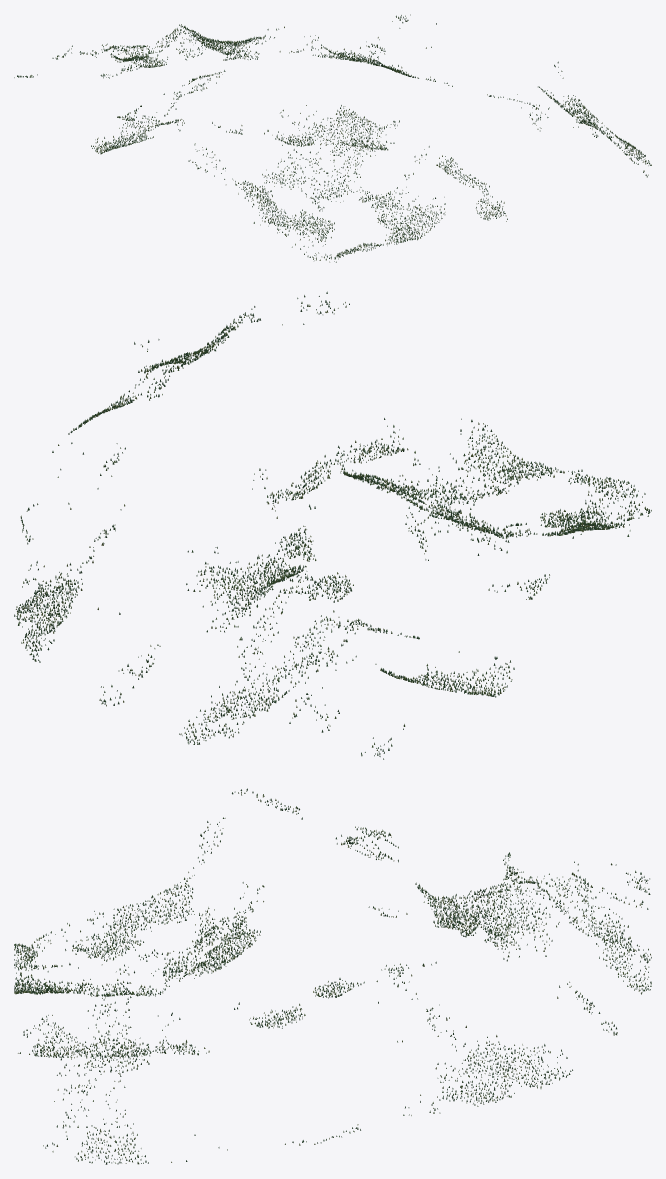
3 views of the same model, one above another, from view 1: azimuth 30°, elevation 25°; view 2: azimuth 150°, elevation 25°; view 3: azimuth 270°, elevation 25° (orthographic). The views are drawn at different scales.
Parts seen in each view (by area): view 1: Forest 1.6, Forest 1.7, Forest 1.3, Forest 1.4, Forest 1.1, Forest 1.14, Forest 1.5, Forest 1.0, Forest 1.11, Forest 1.2; view 2: Forest 1.4, Forest 1.7, Forest 1.6, Forest 1.1, Forest 1.0, Forest 1.3, Forest 1.14, Forest 1.5, Forest 1.11, Forest 1.8, Forest 1.9, Forest 1.2; view 3: Forest 1.4, Forest 1.6, Forest 1.14, Forest 1.3, Forest 1.7, Forest 1.1, Forest 1.0, Forest 1.5, Forest 1.9, Forest 1.8, Forest 1.2, Forest 1.11.
Part boxes in pixels (x1=…): Forest 1.6: x1=280, y1=105, x2=399, y2=196; Forest 1.7: x1=315, y1=146, x2=445, y2=248; Forest 1.3: x1=244, y1=192, x2=371, y2=262; Forest 1.4: x1=125, y1=24, x2=266, y2=67; Forest 1.1: x1=91, y1=58, x2=225, y2=154; Forest 1.14: x1=548, y1=64, x2=651, y2=177; Forest 1.5: x1=186, y1=28, x2=318, y2=143; Forest 1.0: x1=14, y1=41, x2=184, y2=78; Forest 1.11: x1=443, y1=86, x2=562, y2=221; Forest 1.2: x1=155, y1=113, x2=306, y2=198; Forest 1.4: x1=99, y1=568, x2=314, y2=744; Forest 1.7: x1=384, y1=418, x2=587, y2=532; Forest 1.6: x1=280, y1=445, x2=489, y2=589; Forest 1.1: x1=321, y1=503, x2=549, y2=697; Forest 1.0: x1=228, y1=594, x2=419, y2=759; Forest 1.3: x1=502, y1=476, x2=651, y2=536; Forest 1.14: x1=58, y1=312, x2=260, y2=445; Forest 1.5: x1=187, y1=468, x2=358, y2=646; Forest 1.11: x1=208, y1=291, x2=408, y2=494; Forest 1.8: x1=14, y1=588, x2=120, y2=662; Forest 1.9: x1=16, y1=443, x2=125, y2=613; Forest 1.2: x1=468, y1=481, x2=637, y2=538; Forest 1.4: x1=492, y1=875, x2=651, y2=1035; Forest 1.6: x1=173, y1=885, x2=333, y2=1027; Forest 1.14: x1=23, y1=1011, x2=173, y2=1164; Forest 1.3: x1=14, y1=888, x2=173, y2=963; Forest 1.7: x1=14, y1=957, x2=173, y2=996; Forest 1.1: x1=335, y1=826, x2=486, y2=937; Forest 1.0: x1=493, y1=852, x2=651, y2=958; Forest 1.5: x1=333, y1=886, x2=492, y2=997; Forest 1.9: x1=378, y1=965, x2=492, y2=1106; Forest 1.8: x1=492, y1=985, x2=572, y2=1102; Forest 1.2: x1=173, y1=788, x2=302, y2=953; Forest 1.11: x1=14, y1=963, x2=173, y2=1057.
Bounding box in the file's own units: 4787 × 1066 × 5006.
